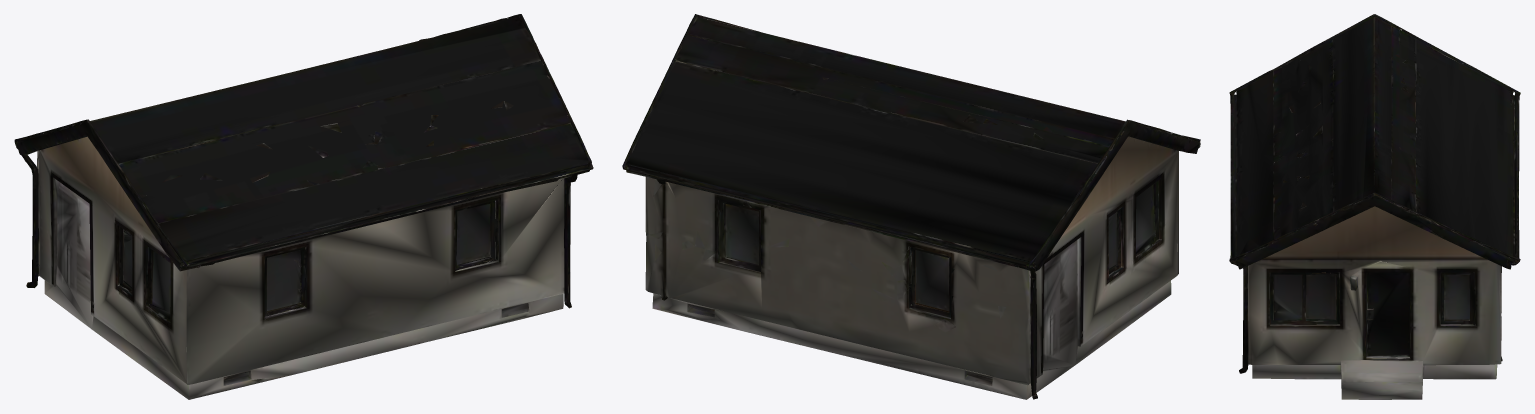
The model's file is finishedAlt-lite.glb.
3 renders of one model, left to right at view 1: azimuth 30°, elevation 25°; view 2: azimuth 150°, elevation 25°; view 3: azimuth 270°, elevation 25°, orthographic. The views are drawn at different scales.
Visible parts, largest first — view 1: world; view 2: world; view 3: world.
Part boxes in pixels (x1=…): world: x1=14, y1=14, x2=593, y2=399; world: x1=622, y1=14, x2=1200, y2=399; world: x1=1229, y1=14, x2=1520, y2=399.
Size of the model in its own units: 0.9977 by 0.4941 by 0.6553.
Materials: 1 (1 with a texture image).
